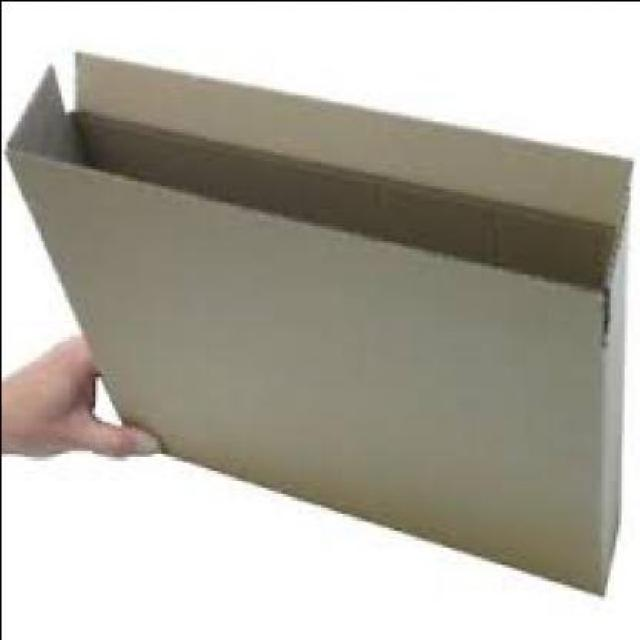CARDBOARD: (2, 48, 623, 592)
